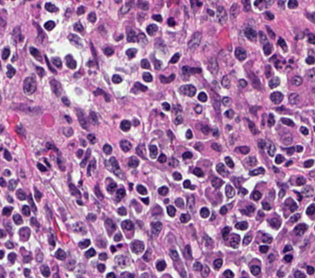nucleus: (107, 157, 122, 177), (188, 31, 201, 49), (77, 109, 87, 129), (50, 78, 61, 95), (248, 73, 260, 88), (179, 85, 195, 96), (216, 6, 226, 23), (80, 149, 90, 166), (68, 34, 81, 47), (284, 198, 297, 211), (45, 56, 55, 72), (208, 58, 218, 74), (105, 218, 115, 234), (244, 27, 256, 40), (29, 47, 41, 60), (216, 163, 228, 176), (294, 223, 306, 235), (235, 47, 246, 60), (65, 55, 76, 68), (69, 183, 80, 196), (73, 222, 86, 233), (228, 234, 239, 247), (212, 92, 219, 112), (240, 205, 254, 215), (159, 74, 174, 83), (136, 143, 145, 158), (120, 1, 131, 13), (270, 92, 282, 103), (211, 177, 223, 188), (268, 217, 280, 228), (248, 120, 258, 133), (151, 222, 161, 235), (254, 0, 270, 8), (87, 159, 95, 175), (107, 179, 116, 193), (94, 185, 103, 199), (146, 24, 157, 35), (281, 133, 292, 144), (120, 140, 131, 151), (127, 29, 137, 41), (249, 167, 264, 175), (301, 186, 313, 196), (121, 220, 133, 230), (258, 31, 267, 44), (225, 184, 234, 197), (278, 37, 286, 51), (149, 144, 157, 158), (187, 195, 194, 211), (120, 120, 130, 131), (128, 156, 138, 167), (45, 2, 57, 11), (152, 56, 161, 68), (134, 82, 146, 91), (242, 233, 251, 245), (78, 239, 90, 248), (230, 4, 238, 17), (89, 111, 97, 124), (116, 187, 124, 200), (126, 48, 136, 58), (51, 57, 61, 67), (269, 77, 279, 87), (251, 190, 261, 200), (289, 213, 299, 223), (289, 93, 298, 104), (183, 180, 194, 189), (30, 217, 39, 228), (235, 146, 249, 153), (266, 26, 274, 38), (221, 76, 229, 88), (281, 118, 293, 126), (235, 221, 247, 229), (182, 66, 189, 79), (34, 187, 41, 200), (44, 21, 54, 30), (74, 22, 83, 32), (137, 33, 146, 43), (170, 53, 179, 63), (291, 76, 301, 85), (193, 167, 203, 176), (295, 176, 305, 185), (158, 186, 168, 195), (200, 207, 209, 217), (137, 1, 148, 9), (263, 43, 271, 54), (46, 142, 57, 150), (167, 205, 175, 216), (222, 227, 230, 238), (204, 235, 212, 246), (268, 143, 275, 155), (63, 127, 72, 136), (137, 185, 146, 194), (180, 213, 189, 222), (36, 66, 44, 76), (258, 139, 266, 149), (211, 143, 221, 151), (103, 144, 111, 154), (225, 157, 233, 167), (246, 157, 256, 165), (175, 198, 183, 208), (268, 113, 274, 126), (57, 159, 64, 170), (306, 204, 313, 215), (288, 0, 297, 8), (264, 11, 273, 19), (104, 47, 113, 55), (141, 59, 149, 68), (143, 72, 151, 81), (112, 75, 121, 83), (198, 92, 206, 101), (225, 109, 233, 118), (174, 115, 182, 124), (200, 125, 209, 133), (87, 134, 95, 143), (275, 154, 283, 163), (304, 159, 313, 167), (37, 163, 46, 171), (262, 201, 270, 210), (117, 207, 126, 215), (262, 234, 271, 242), (96, 239, 105, 247), (242, 0, 249, 10), (88, 12, 95, 22), (182, 151, 192, 158), (48, 234, 54, 245), (167, 18, 175, 26), (222, 97, 230, 105), (286, 147, 294, 155), (158, 154, 166, 162), (169, 158, 177, 166), (173, 172, 181, 180), (152, 14, 161, 21), (265, 65, 270, 77), (307, 69, 313, 79), (94, 89, 104, 95), (77, 6, 84, 14), (306, 56, 313, 64), (239, 79, 246, 87), (62, 97, 69, 105), (162, 102, 169, 110), (300, 127, 308, 134), (76, 149, 83, 157), (87, 213, 95, 220), (114, 233, 121, 241), (190, 68, 201, 73), (308, 34, 314, 43), (167, 130, 173, 139), (295, 191, 301, 200), (195, 143, 202, 150), (195, 105, 201, 113), (186, 130, 192, 138), (294, 145, 302, 151), (220, 206, 226, 214), (207, 9, 214, 15), (65, 115, 71, 122), (240, 188, 247, 194), (213, 128, 218, 136), (44, 158, 49, 166), (279, 189, 284, 197), (275, 61, 280, 68), (104, 93, 109, 100), (141, 198, 148, 203), (87, 61, 93, 66), (133, 119, 138, 125), (258, 211, 263, 217), (276, 107, 283, 111), (196, 1, 201, 6), (286, 161, 291, 166), (81, 139, 85, 145), (278, 1, 283, 5), (77, 200, 82, 204), (270, 191, 273, 197)
